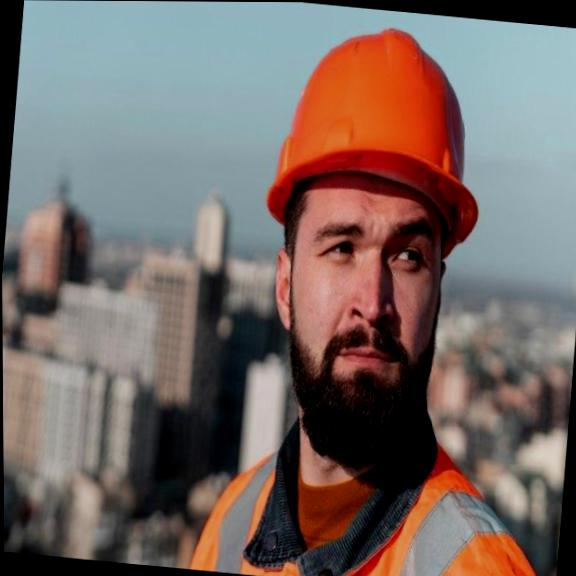safety_vest: (179, 409, 567, 576)
